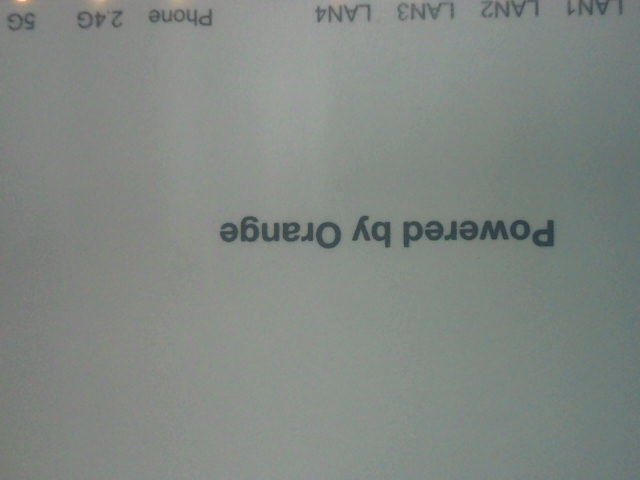AS_PowerByOrange: (195, 202, 576, 262)
